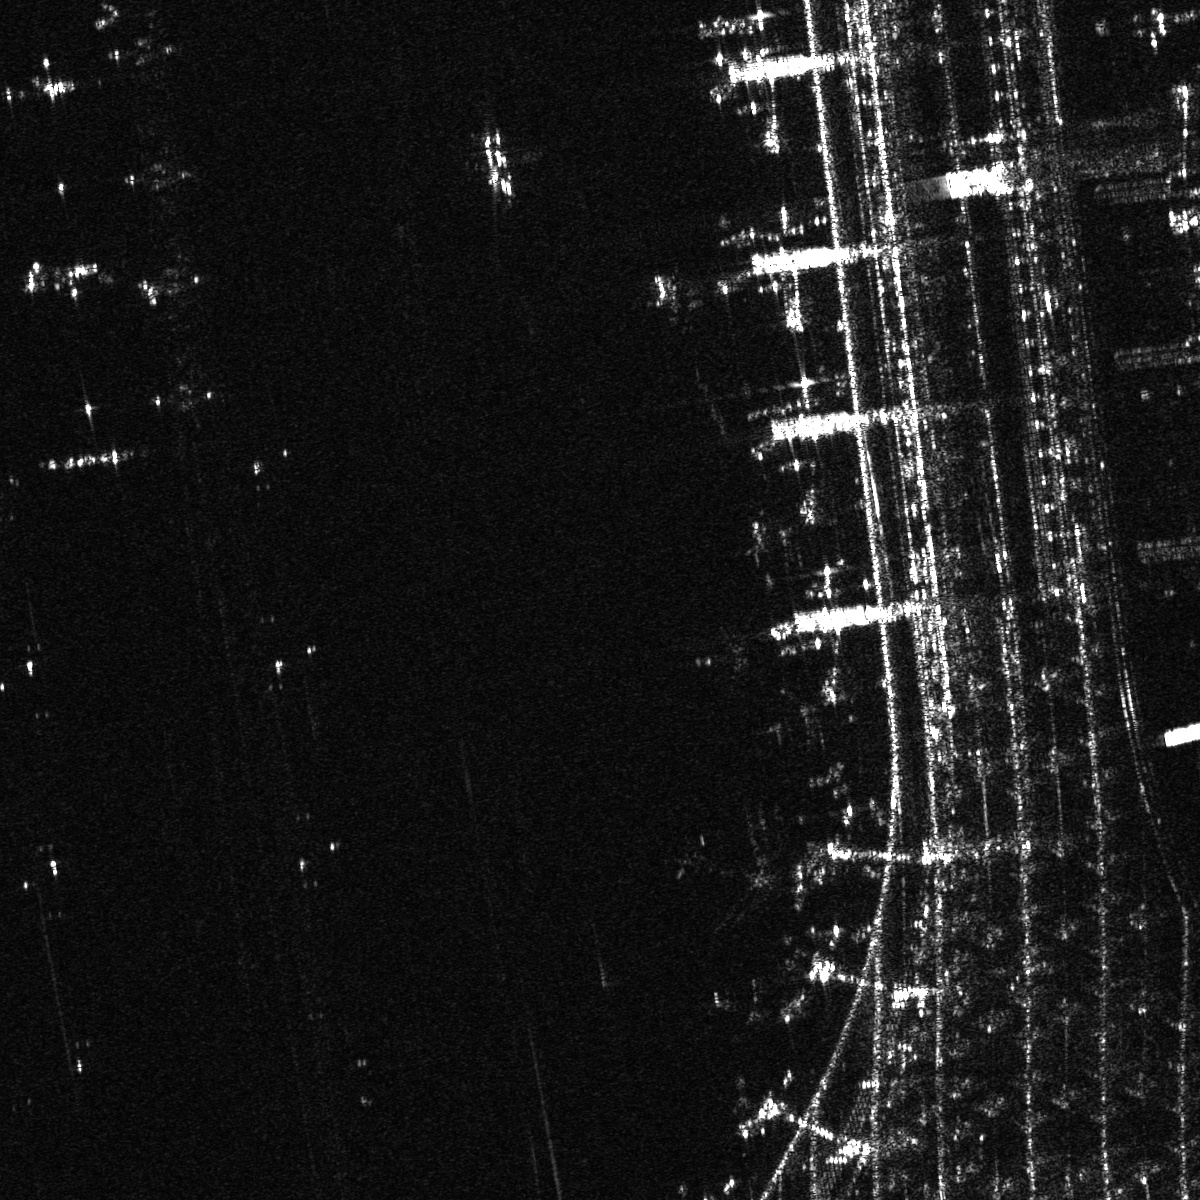A220: (705, 974, 771, 1035)
Boeing787: (689, 620, 762, 689)
other: (664, 802, 784, 935)
